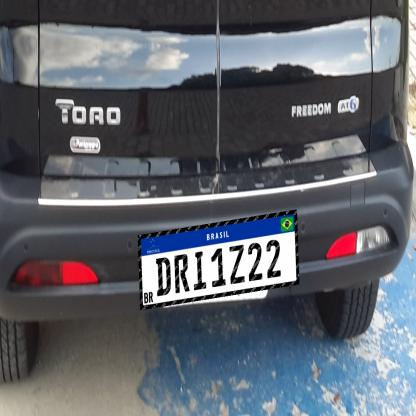PlacaM: (138, 209, 299, 310)
